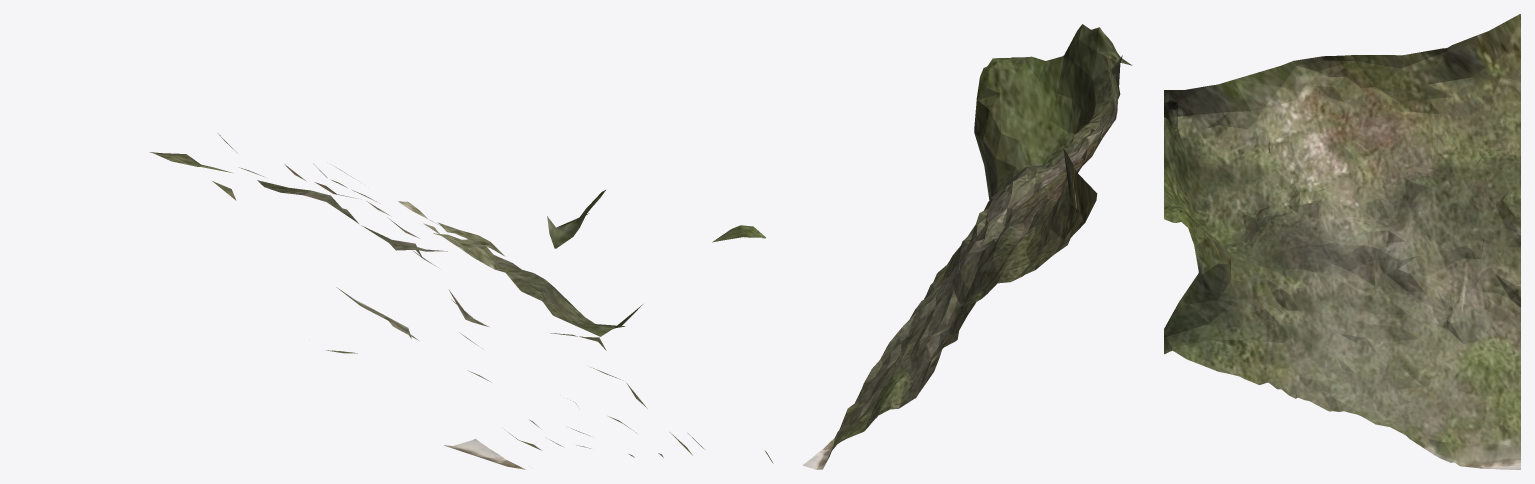
3 views of the same model, side by side, from view 1: azimuth 30°, elevation 25°; view 2: azimuth 150°, elevation 25°; view 3: azimuth 270°, elevation 25° (orthographic). The views are drawn at different scales.
Size of the model in its own units: 5.27 by 5.88 by 5.9.
Materials: 3 (3 with a texture image).
